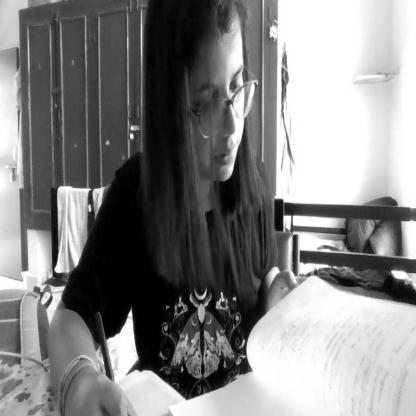Distracted: (164, 16, 258, 177)
